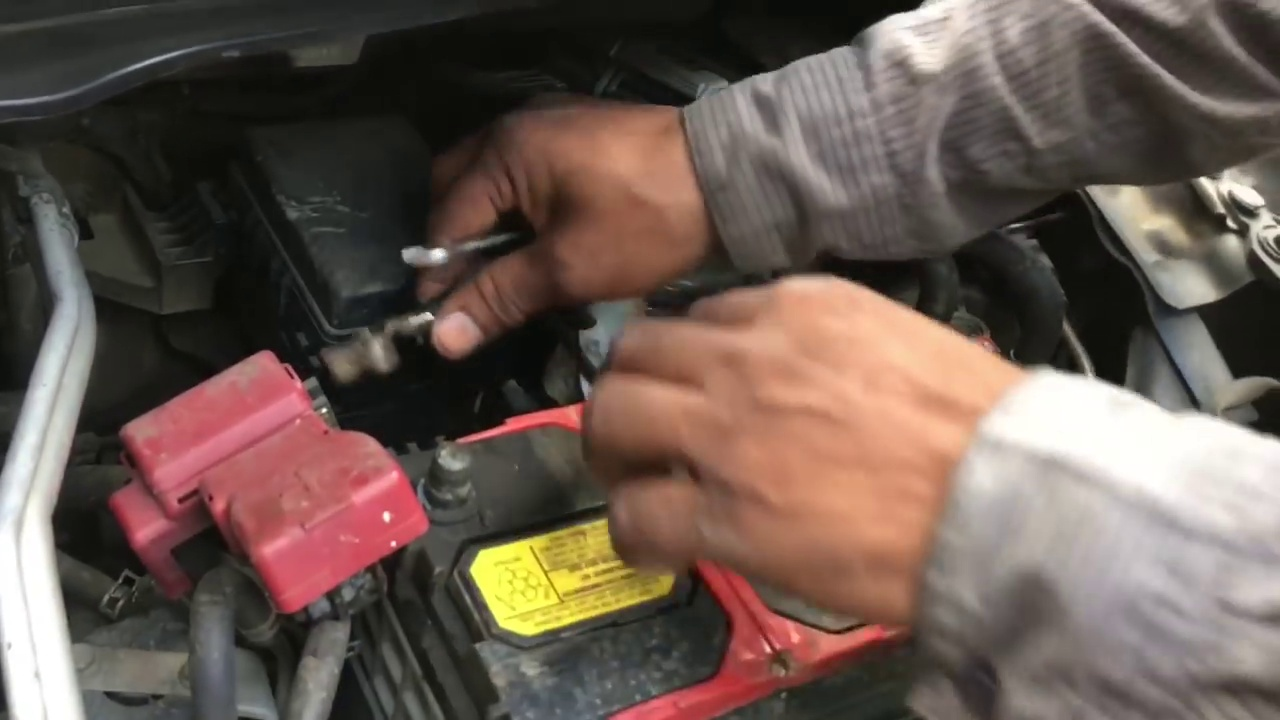battery: (385, 363, 921, 702)
pos_disconnected: (164, 376, 524, 571)
